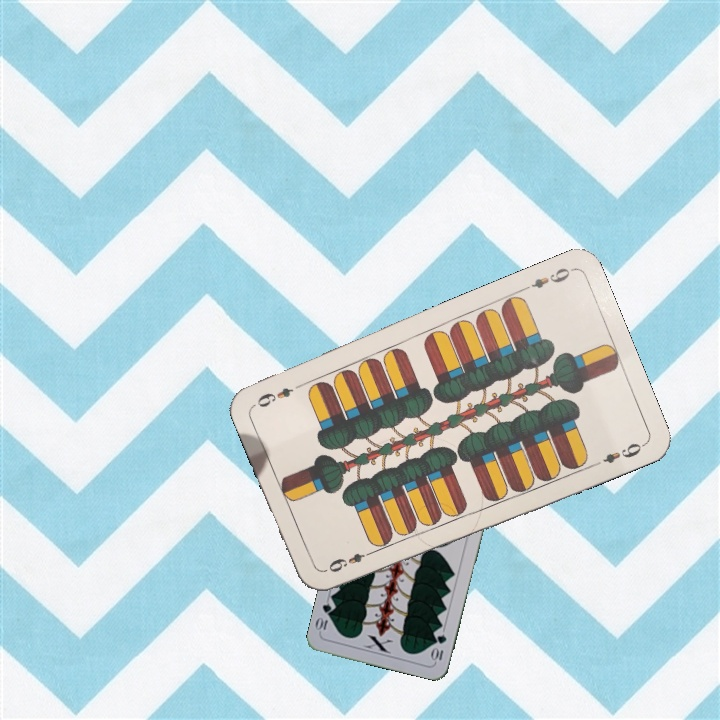E9: (519, 263, 575, 293), (321, 546, 378, 575)
G10: (428, 630, 449, 664)
